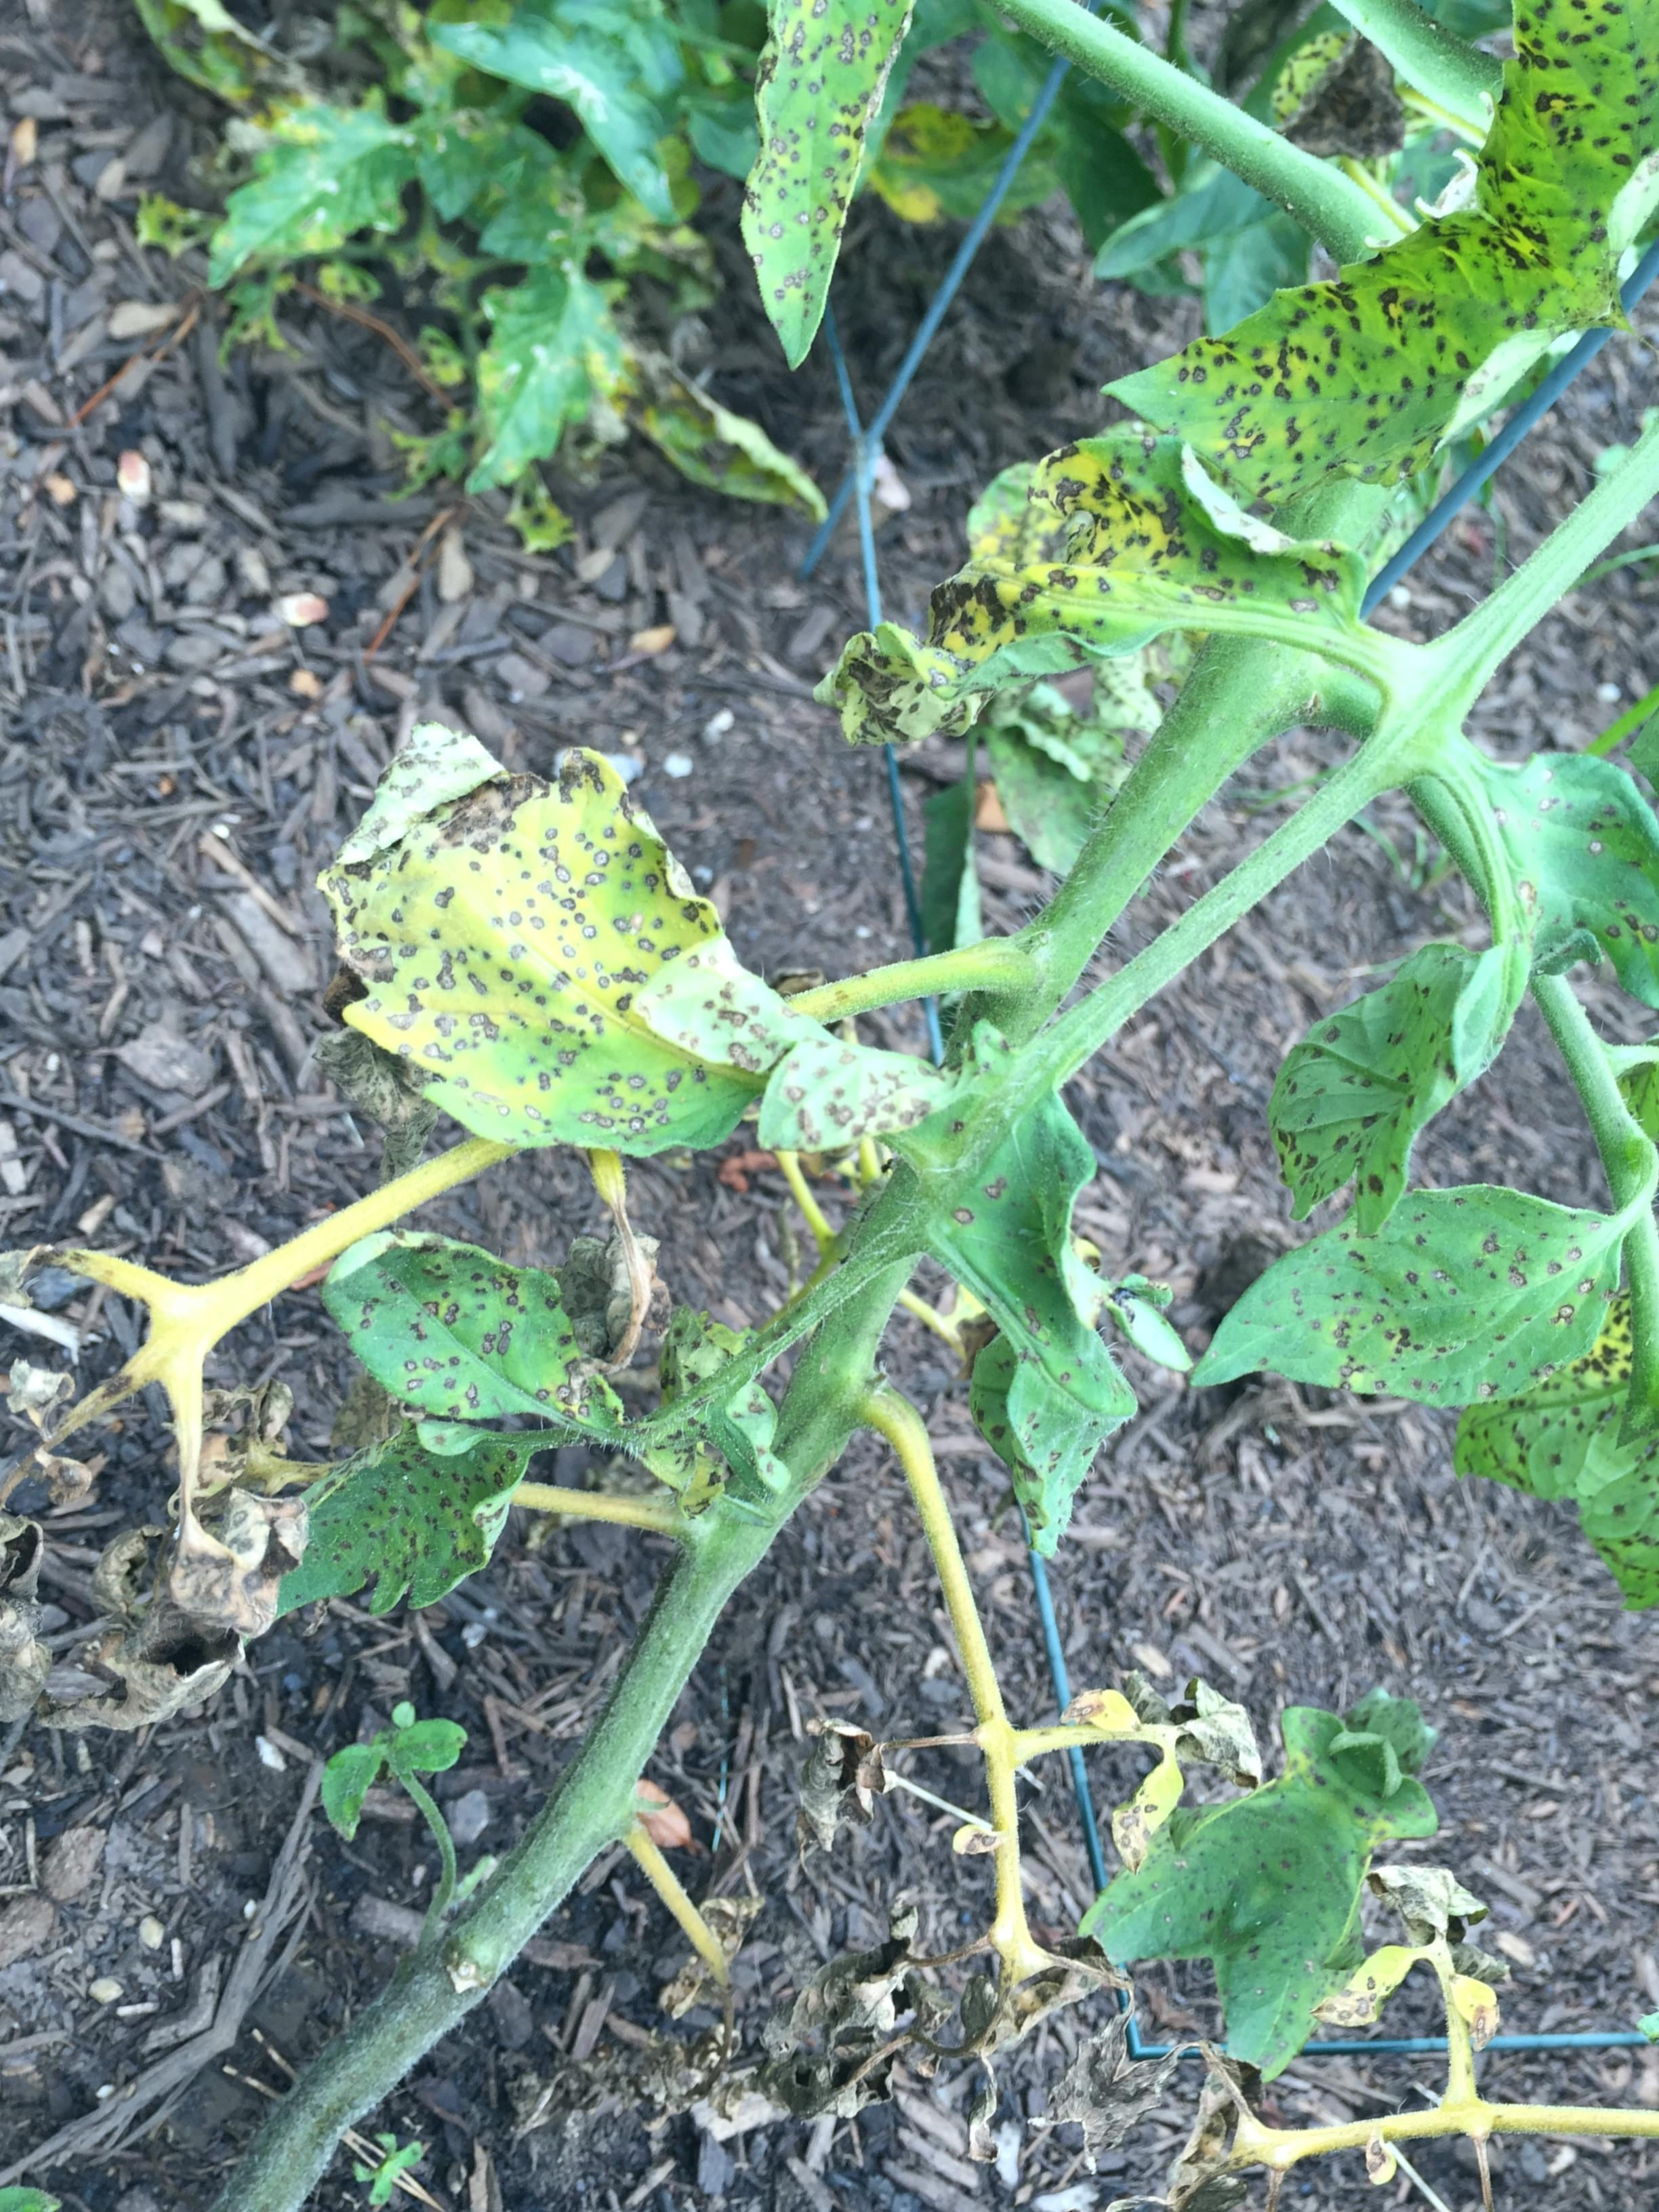Tomato Septoria leaf spot: (145, 594, 1033, 1414), (783, 344, 1396, 962), (1081, 97, 1658, 663), (1141, 1044, 1659, 1597), (785, 1054, 1285, 1568), (542, 0, 1105, 371), (234, 1122, 670, 1529), (215, 1344, 624, 1757), (1194, 856, 1589, 1271)
